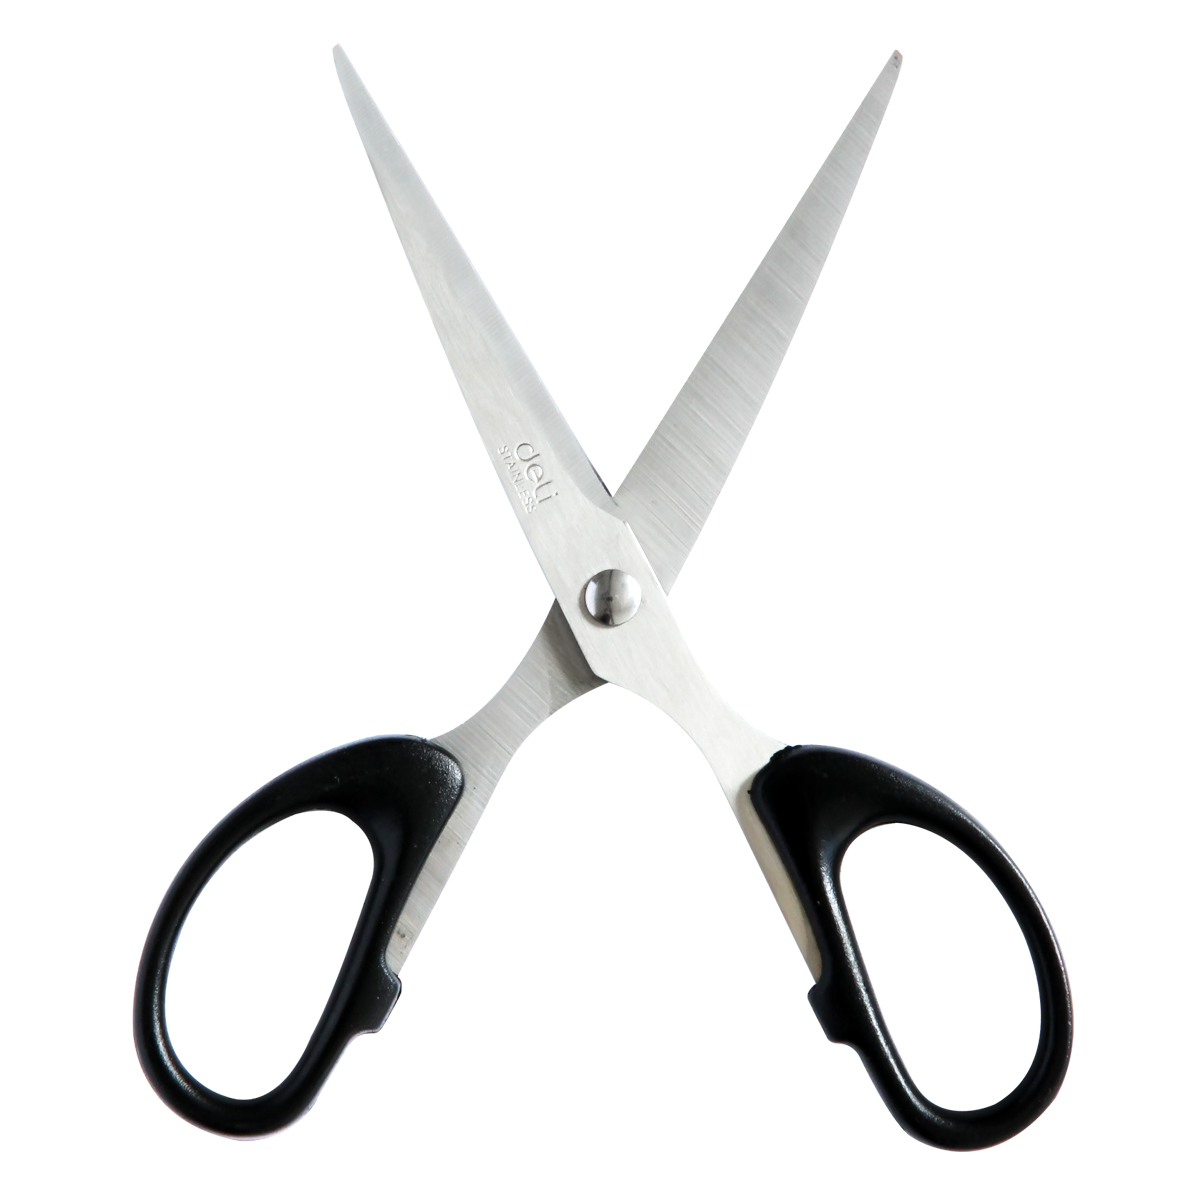scissors: (116, 18, 1103, 1164)
